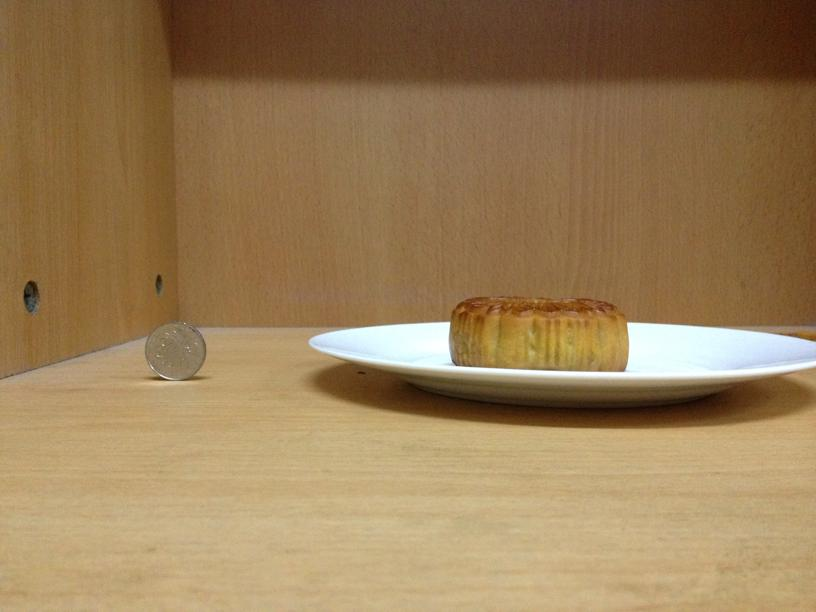coin: (143, 322, 207, 380)
mooncake: (447, 296, 629, 371)
